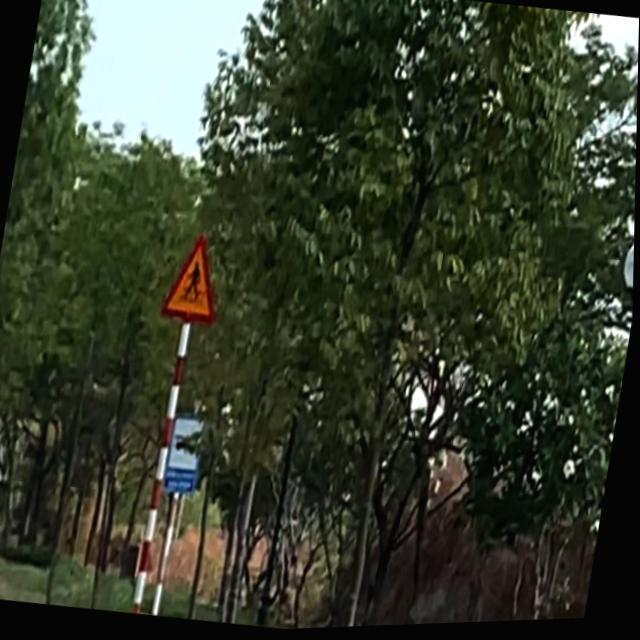Nguoi di bo cat ngang: (158, 226, 231, 333)
